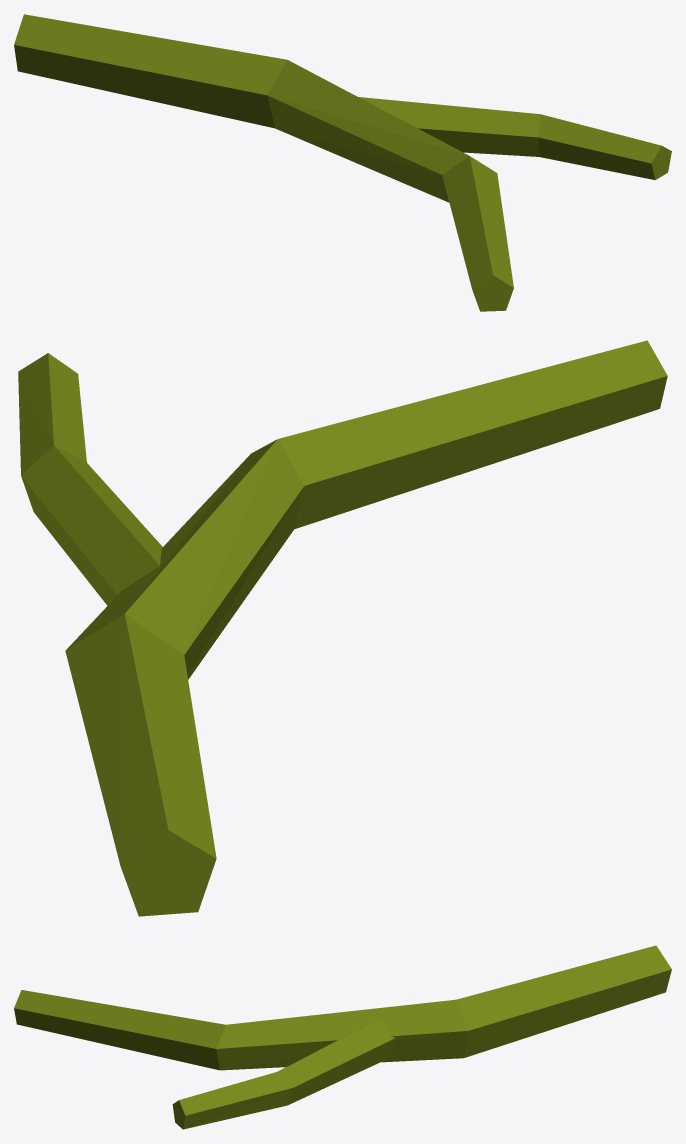
The model's file is SM_FOL_Stick_01_D.obj.
The picture shows the model from 3 angles, top to bottom: view 1: azimuth 30°, elevation 25°; view 2: azimuth 150°, elevation 25°; view 3: azimuth 270°, elevation 25°; orthographic projection. The views are drawn at different scales.
Parts seen in each view (by area): view 1: SM_FOL_Stick_01_D; view 2: SM_FOL_Stick_01_D; view 3: SM_FOL_Stick_01_D.
Part boxes in pixels (bbox=[...]): SM_FOL_Stick_01_D: bbox=[14, 14, 671, 311]; SM_FOL_Stick_01_D: bbox=[18, 340, 667, 916]; SM_FOL_Stick_01_D: bbox=[14, 945, 671, 1129].
Bounding box in the file's own units: 36.06 × 5.43 × 62.88.
